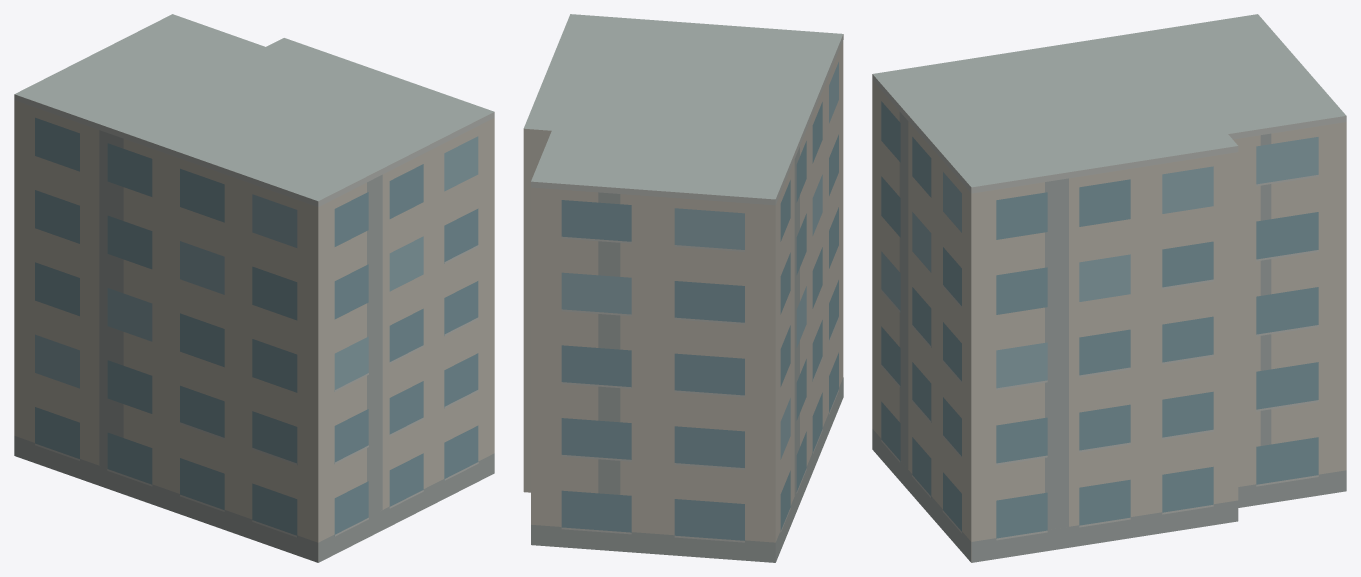
File: residential-15bf8a18-61eb-4428-b6b4-1140ee63d178.glb
3 renders of one model, left to right at view 1: azimuth 30°, elevation 25°; view 2: azimuth 150°, elevation 25°; view 3: azimuth 270°, elevation 25°, orthographic. The views are drawn at different scales.
Visible parts, largest first — view 1: residential-15bf8a18-61eb-4428-b6b4-1140ee63d178.tmp; view 2: residential-15bf8a18-61eb-4428-b6b4-1140ee63d178.tmp; view 3: residential-15bf8a18-61eb-4428-b6b4-1140ee63d178.tmp.
Boxes of the visible parts, x1=… form: residential-15bf8a18-61eb-4428-b6b4-1140ee63d178.tmp: x1=14, y1=14, x2=494, y2=562; residential-15bf8a18-61eb-4428-b6b4-1140ee63d178.tmp: x1=523, y1=14, x2=843, y2=562; residential-15bf8a18-61eb-4428-b6b4-1140ee63d178.tmp: x1=872, y1=14, x2=1346, y2=562.
Bounding box in the file's own units: 14.87 × 15 × 17.18.
